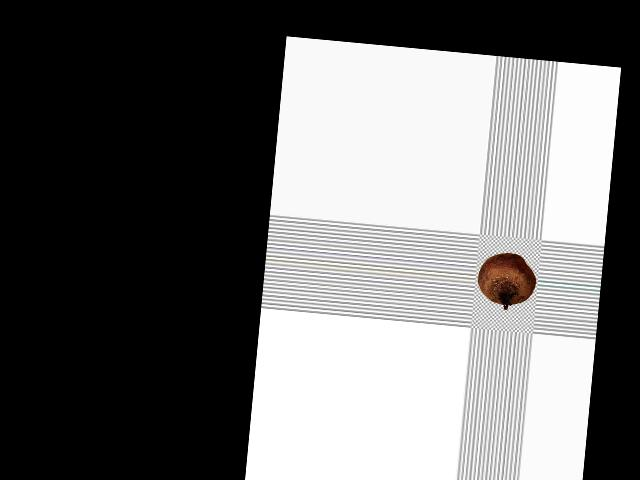beet: (476, 250, 538, 312)
